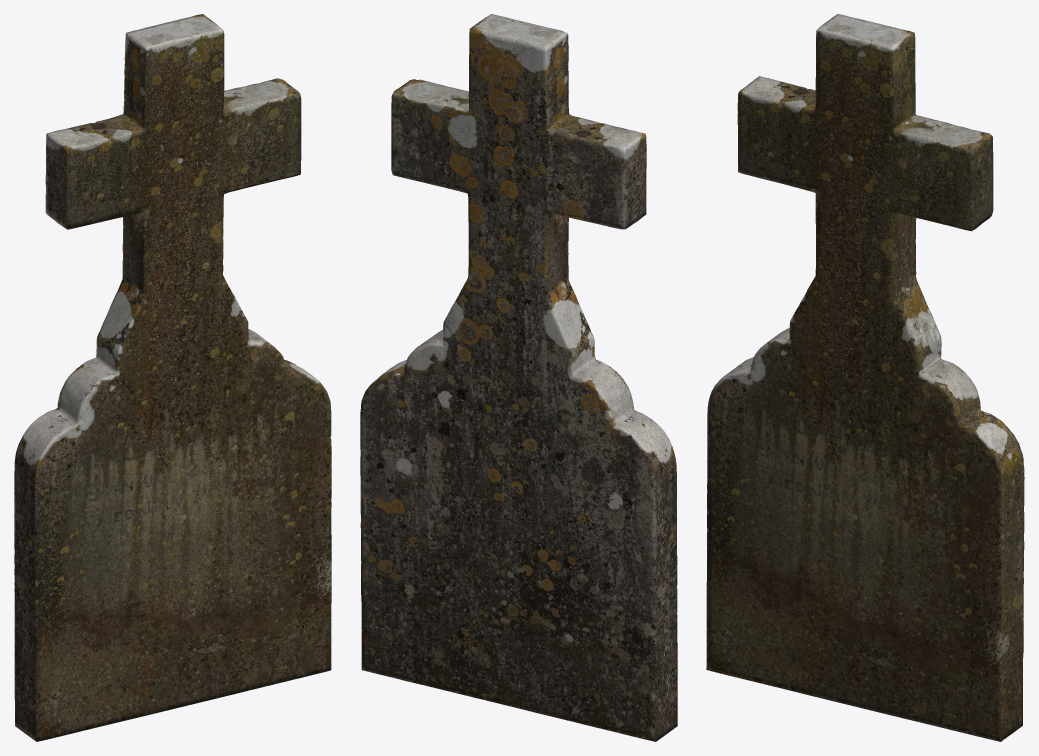
3 views of the same model, side by side, from view 1: azimuth 30°, elevation 25°; view 2: azimuth 150°, elevation 25°; view 3: azimuth 330°, elevation 25° (orthographic).
Parts seen in each view (by area): view 1: wjuvde2qx_LOD0_TIER2_000; view 2: wjuvde2qx_LOD0_TIER2_000; view 3: wjuvde2qx_LOD0_TIER2_000.
Part boxes in pixels (left/top/right/bottom): wjuvde2qx_LOD0_TIER2_000: left=14, top=14, right=331, bottom=741; wjuvde2qx_LOD0_TIER2_000: left=360, top=14, right=677, bottom=741; wjuvde2qx_LOD0_TIER2_000: left=706, top=14, right=1024, bottom=741.
Bounding box in the file's own units: 0.585 × 1.26 × 0.0803.
1 material, 1 textured.
